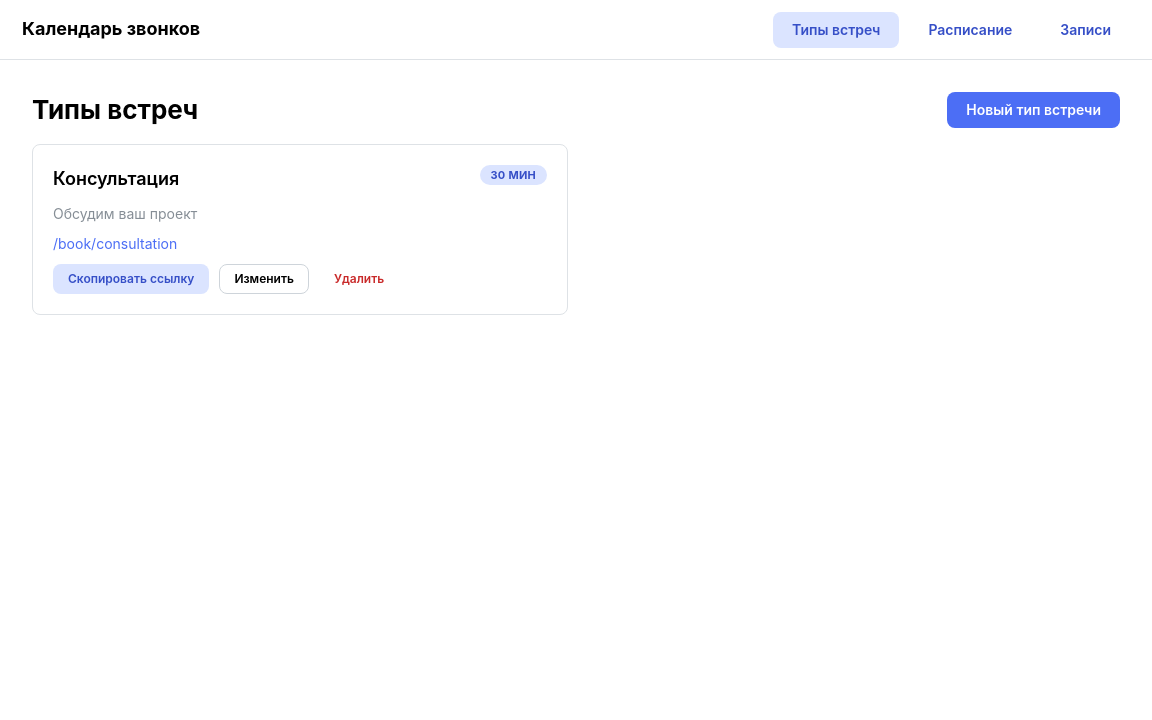
it: EventTypesPage › edits an existing event type
The width and height of the screenshot is (1152, 720).
Later steps or results of the test are not shown.
Click the button "Изменить": [264, 279] box [219,264,309,294]
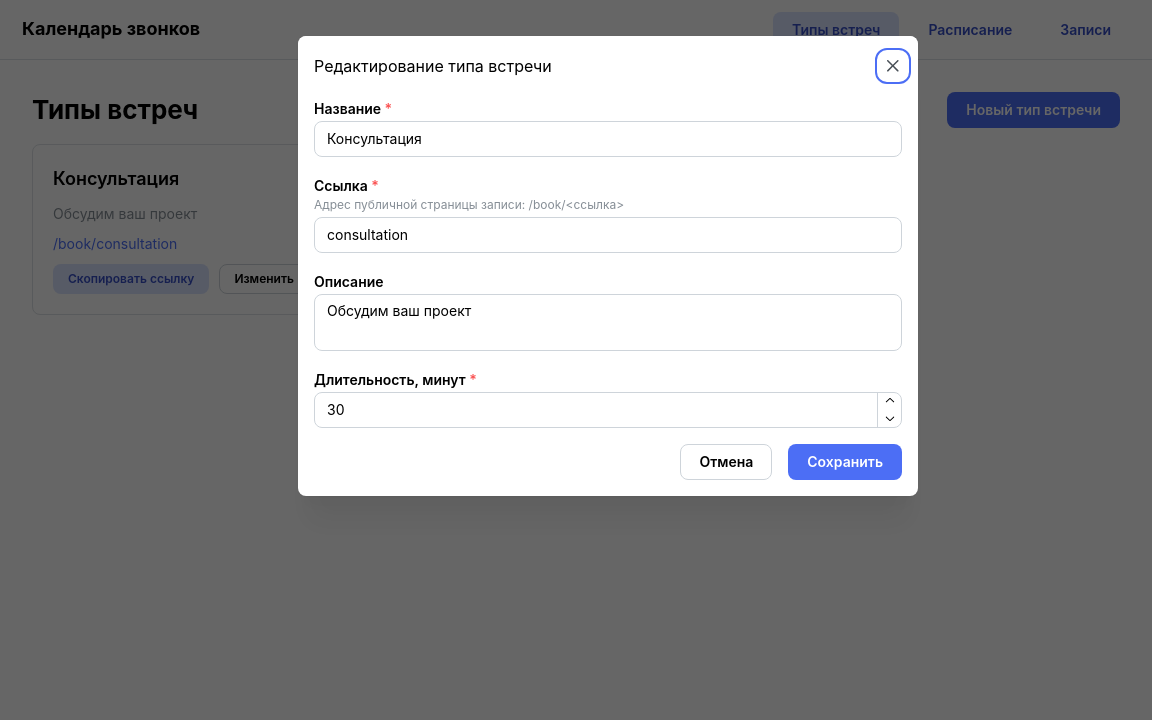
Expected: the field labelled "Ссылка *" holds "consultation", [314,217,902,253]
